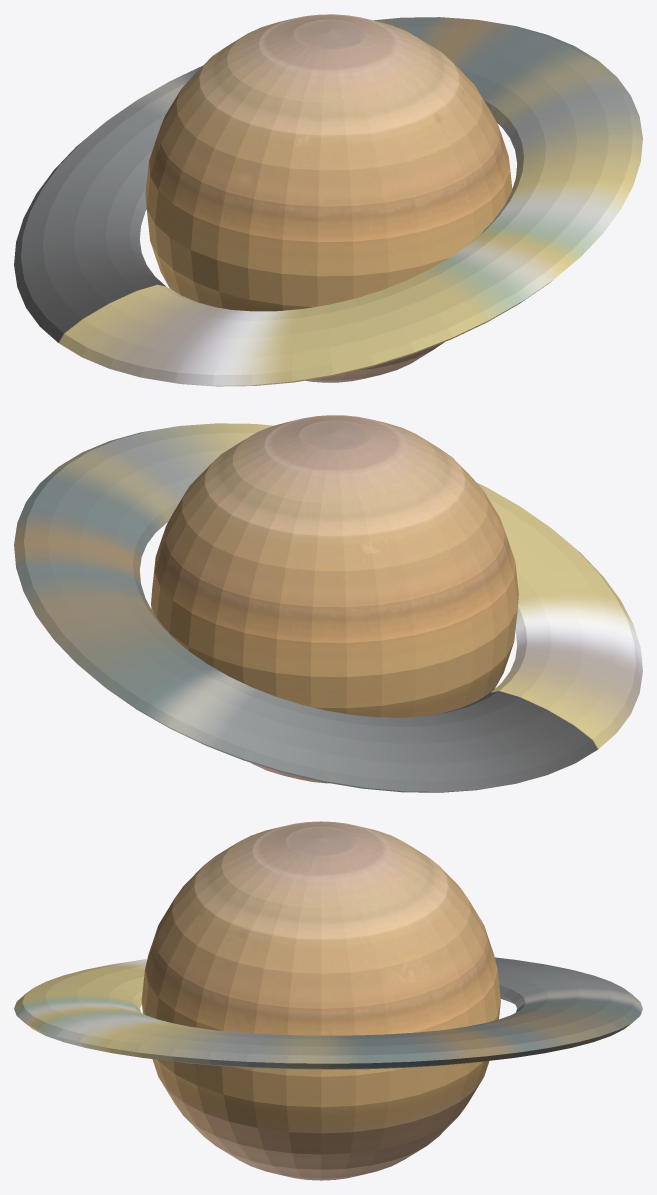
Rendered from Saturn.fbx.
3 views of the same model, one above another, from view 1: azimuth 30°, elevation 25°; view 2: azimuth 150°, elevation 25°; view 3: azimuth 270°, elevation 25° (orthographic). The views are drawn at different scales.
Visible parts, largest first — view 1: Saturn; view 2: Saturn; view 3: Saturn.
Part boxes in pixels (bbox=[...]): Saturn: bbox=[14, 14, 642, 386]; Saturn: bbox=[14, 415, 642, 792]; Saturn: bbox=[14, 821, 642, 1180].
Bounding box in the file's own units: 8454 × 5000 × 8750.
